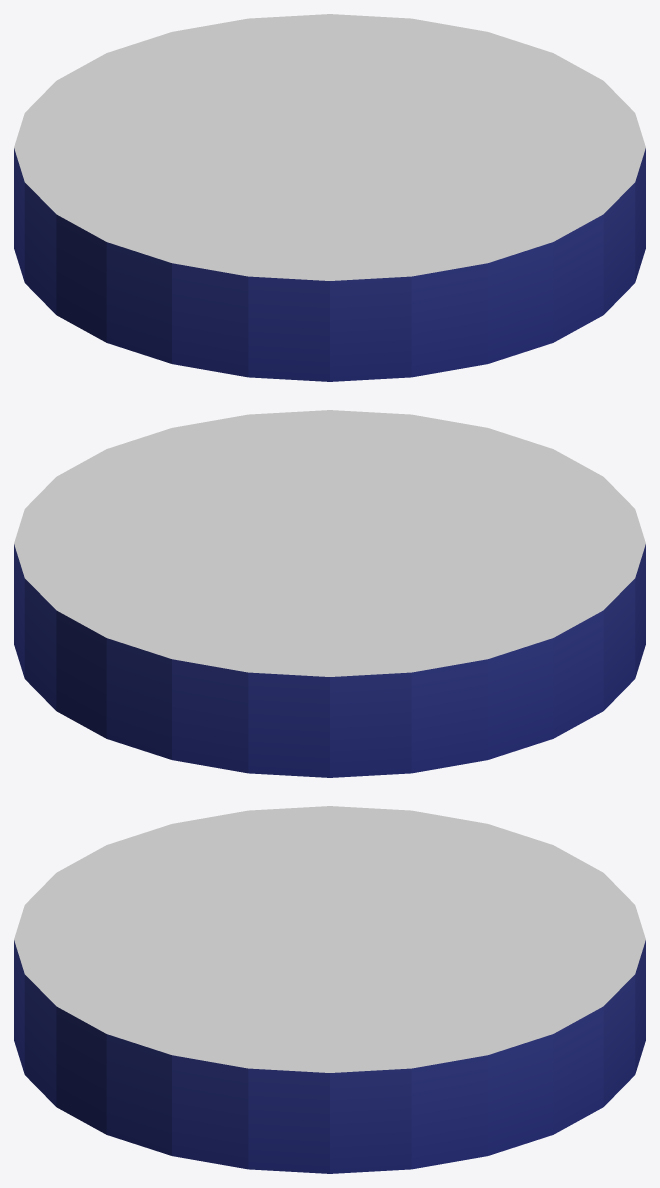
File: JacksonStormWheel.fbx
The picture shows the model from 3 angles, top to bottom: view 1: azimuth 30°, elevation 25°; view 2: azimuth 150°, elevation 25°; view 3: azimuth 270°, elevation 25°; orthographic projection.
Visible parts, largest first — view 1: JacksonStormWheel; view 2: JacksonStormWheel; view 3: JacksonStormWheel.
Boxes of the visible parts, x1,y1,x2,y2 form: JacksonStormWheel: (14,14,645,381); JacksonStormWheel: (14,410,645,777); JacksonStormWheel: (14,806,645,1173).
Size of the model in its own units: 111 by 19.62 by 111.
